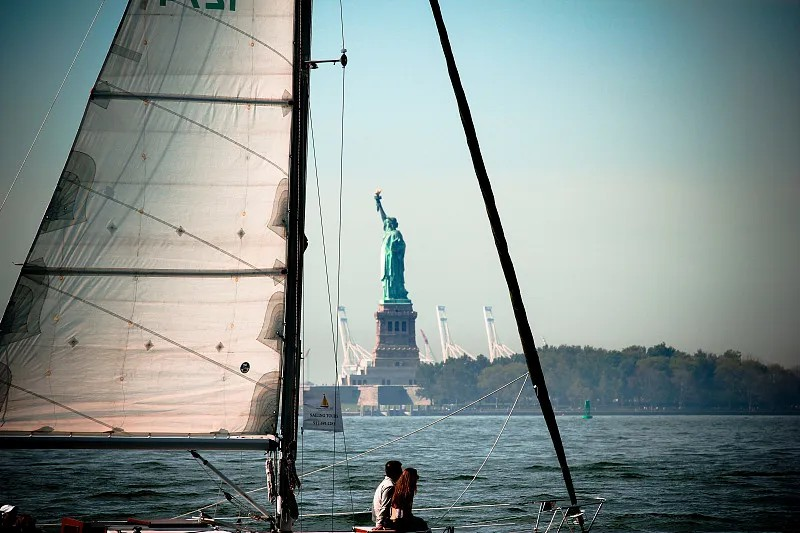SL: (369, 186, 419, 369)
